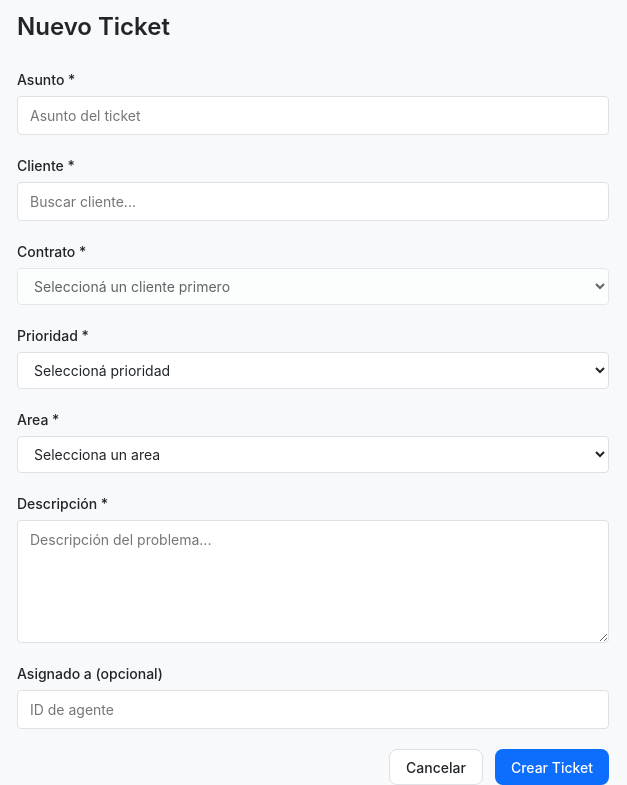
Test case: CreateTicketPage › maps the BE 422 CONTRACT_CUSTOMER_MISMATCH code to a clear message
Type "X" into the field with placeholder "Asunto del ticket". click: (313, 116)
box: [17, 96, 609, 135]
Type "Y" into the text box with placeholder "Descripción del problema...". click: (313, 582)
box: [17, 520, 609, 643]
Type "Juan" into the field with placeholder "Buscar cliente...". click: (313, 202)
box: [17, 182, 609, 221]
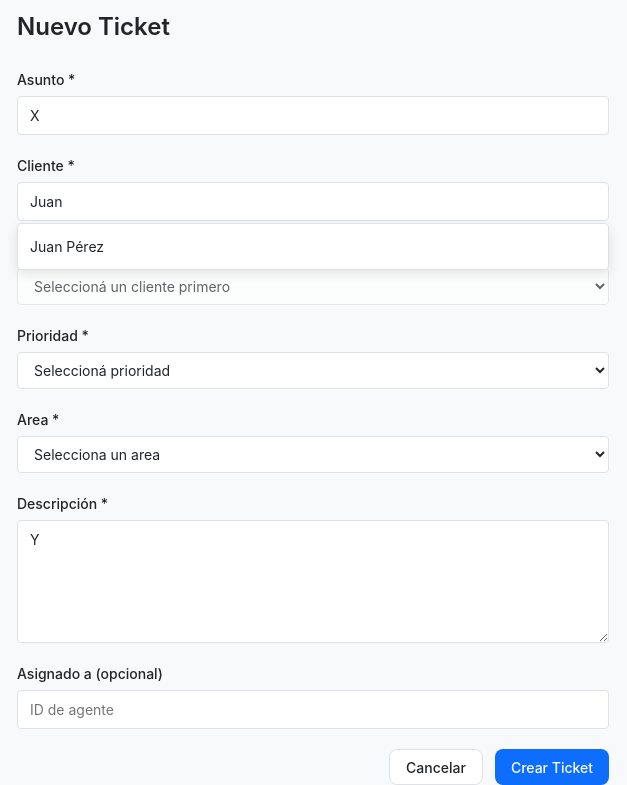
Click the list item "Juan Pérez". click: (67, 246)
box: [30, 238, 104, 255]
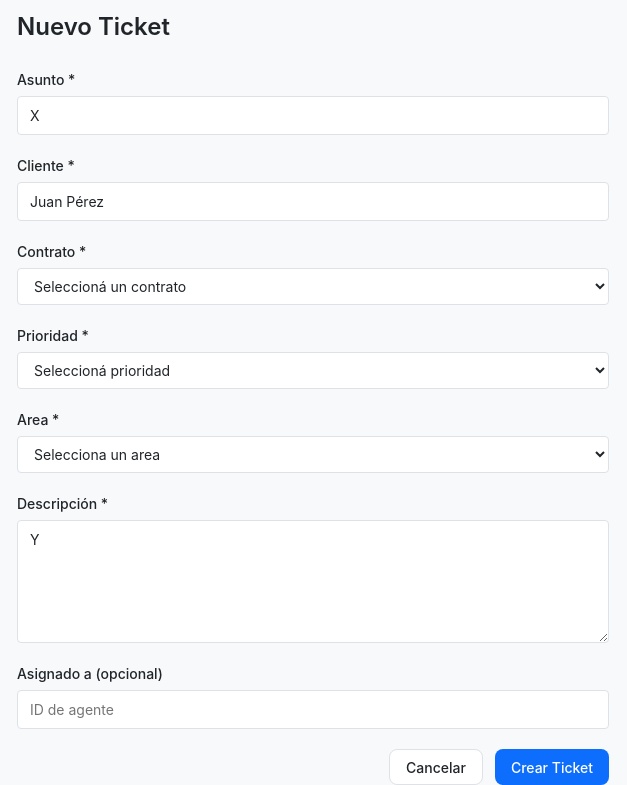
Expected: the dropdown labelled "Contrato" is enabled
Select "Plan 100MB - Calle 1 - FTTH" in the dropdown labelled "Contrato". click: (313, 286)
box: [17, 268, 609, 305]
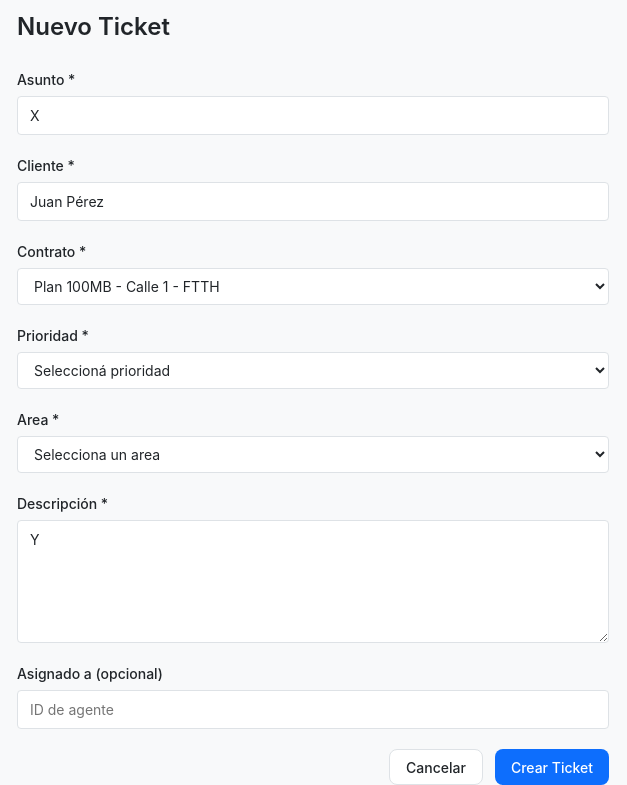
Select "Alta" in the dropdown named "Prioridad". click: (313, 370)
box: [17, 352, 609, 389]
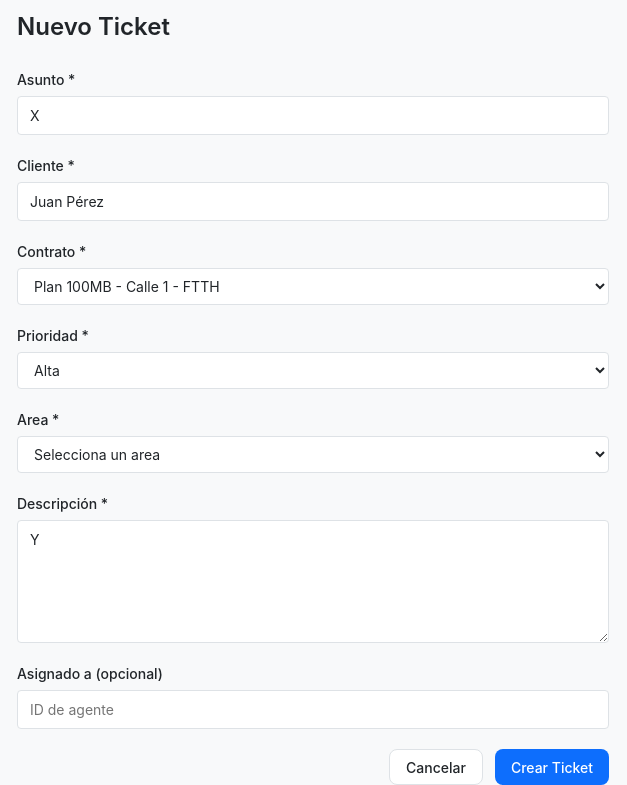
Select "Soporte Técnico" in the dropdown named "Area". click: (313, 454)
box: [17, 436, 609, 473]
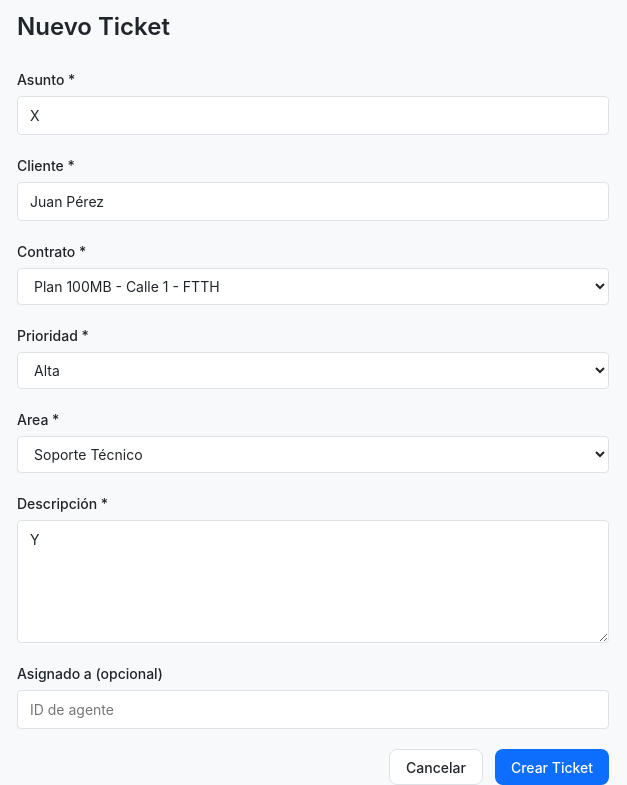
Click the button "Crear Ticket". click: (552, 767)
box: [495, 749, 609, 784]
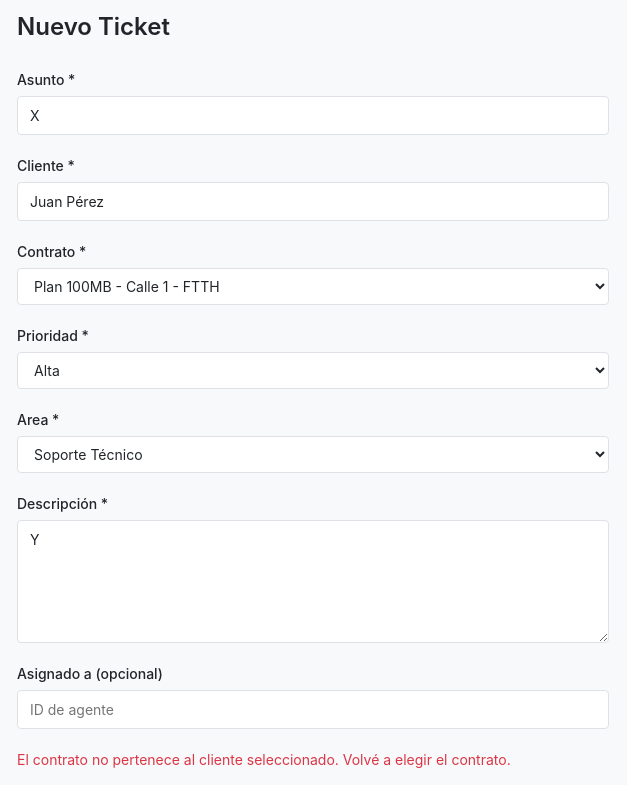
Expected: the text "El contrato no pertenece al cliente seleccionado. Volvé a elegir el contrato." is shown, [17, 751, 511, 768]
